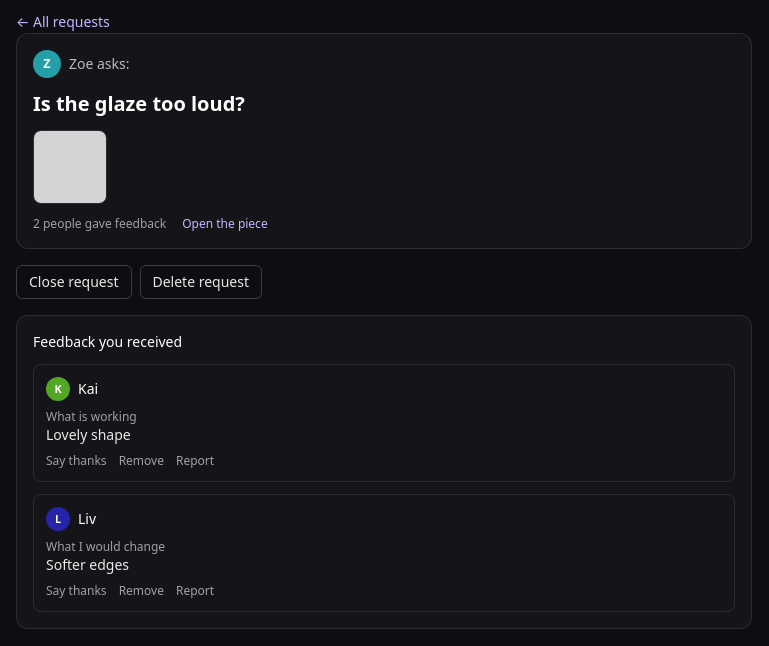
CritiquePage: the maker › closes and reopens the request
Click the button "Close request": click(74, 282) [16,265,132,299]
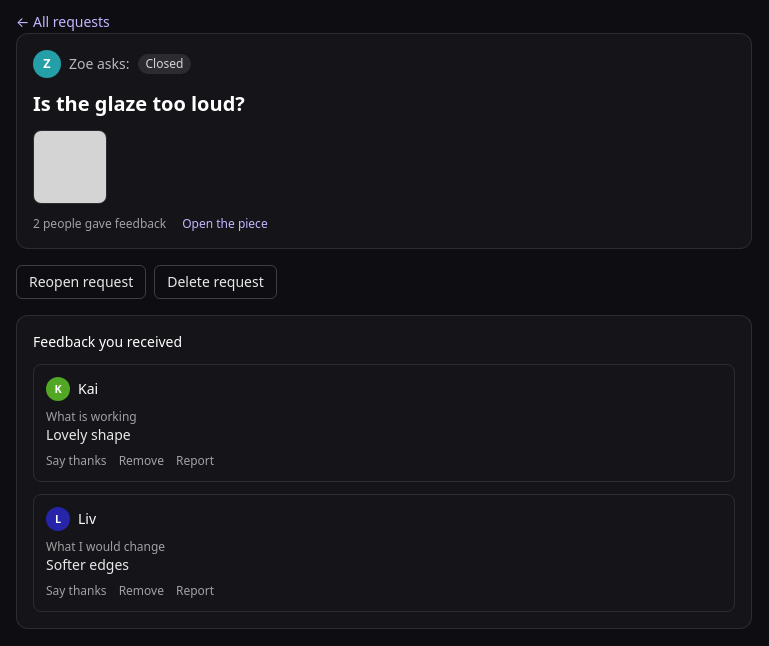
Click the button "Reopen request": click(81, 282) [16,265,146,299]
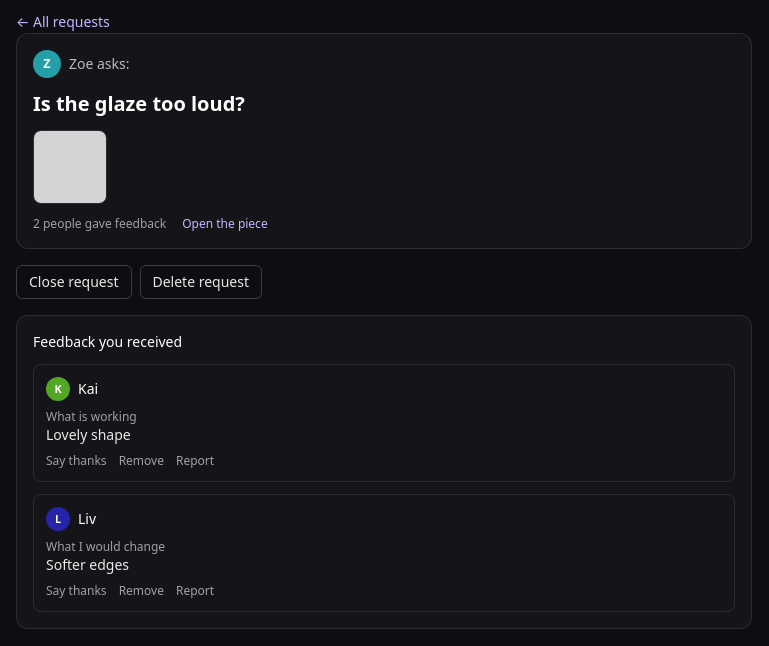
Now the button "Close request" is shown, box [16,265,132,299]
